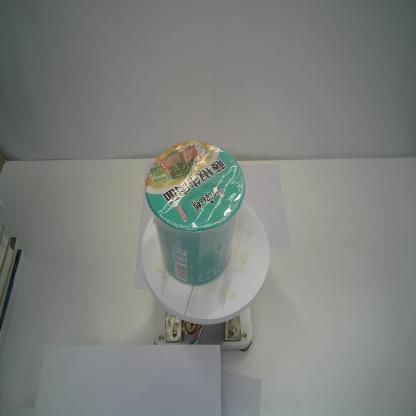Instant Noodles: (144, 140, 245, 287)
